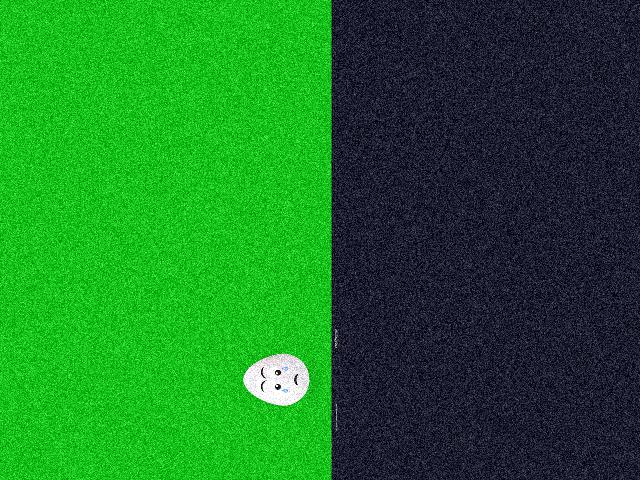egg: (243, 353, 309, 405)
